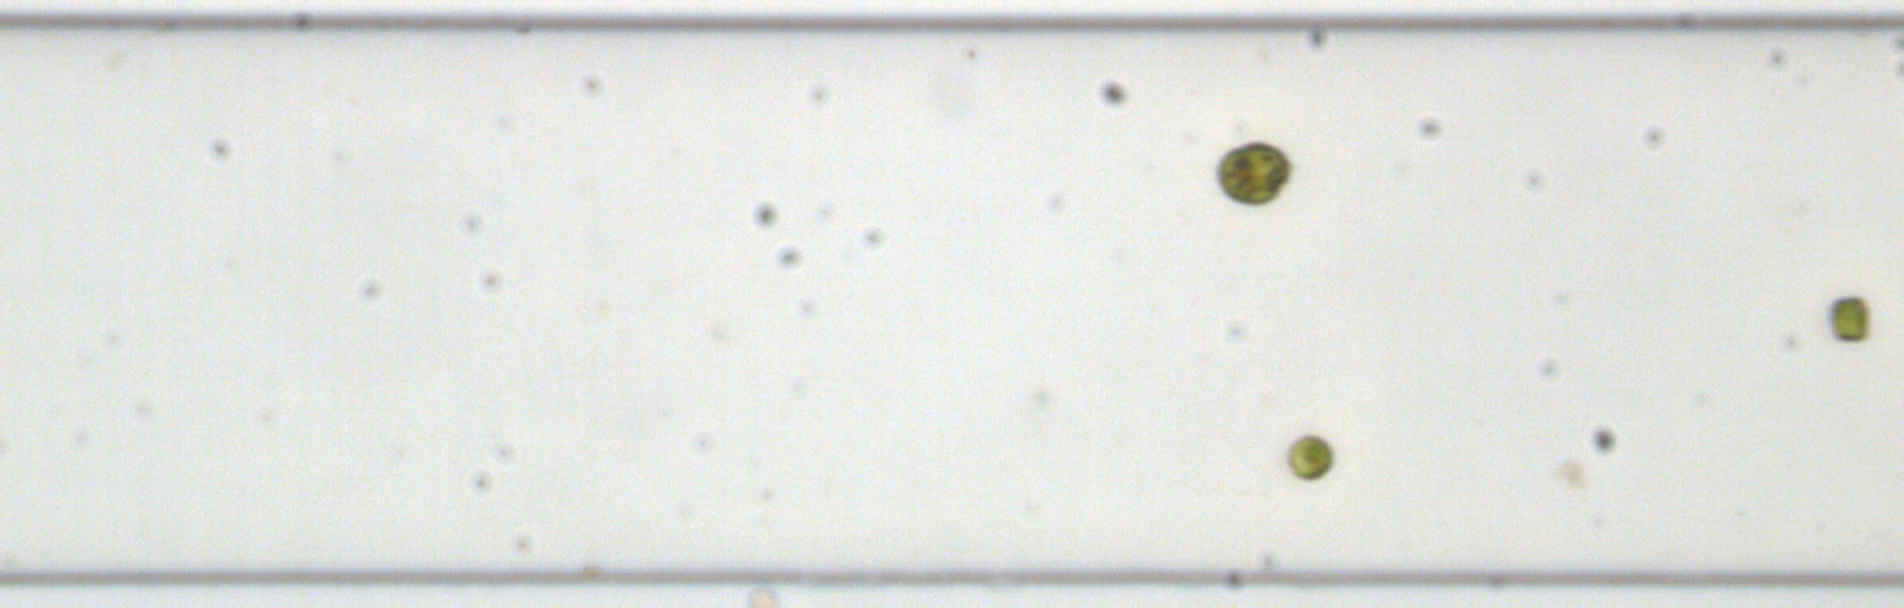Haematococcus: (1214, 136, 1293, 208)
Platymonas: (1283, 432, 1338, 483), (1825, 292, 1871, 346)
